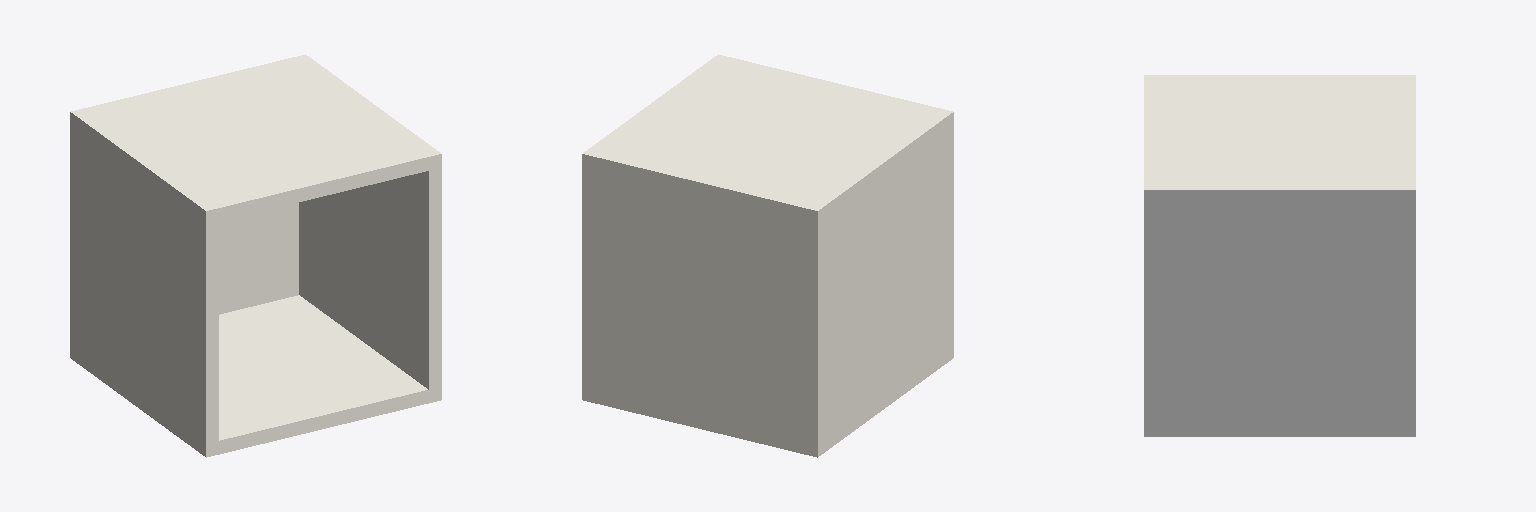
Rendered from cubo1.obj.
3 renders of one model, left to right at view 1: azimuth 30°, elevation 25°; view 2: azimuth 150°, elevation 25°; view 3: azimuth 270°, elevation 25°, orthographic.
Parts seen in each view (by area): view 1: Cube; view 2: Cube; view 3: Cube.
Part boxes in pixels (bbox=[...]): Cube: bbox=[70, 54, 441, 457]; Cube: bbox=[582, 54, 953, 457]; Cube: bbox=[1144, 75, 1415, 436].
Size of the model in its own units: 2 by 2 by 2.